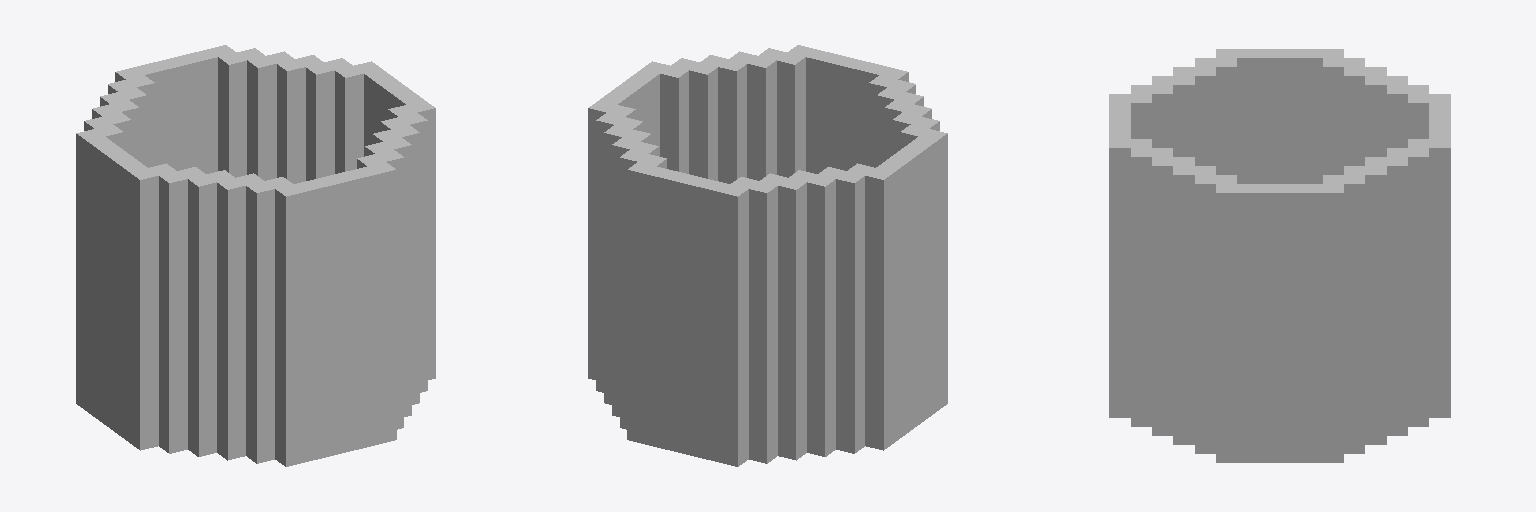
Rendered from trashCan.obj.
3 renders of one model, left to right at view 1: azimuth 30°, elevation 25°; view 2: azimuth 150°, elevation 25°; view 3: azimuth 270°, elevation 25°, orthographic.
Visible parts, largest first — view 1: object 1; view 2: object 1; view 3: object 1.
Boxes of the visible parts, box(x1,y1,x2,y2) form: object 1: box(76, 45, 435, 466); object 1: box(588, 45, 947, 466); object 1: box(1109, 49, 1450, 462).
Size of the model in its own units: 1.6 by 1.4 by 1.6.